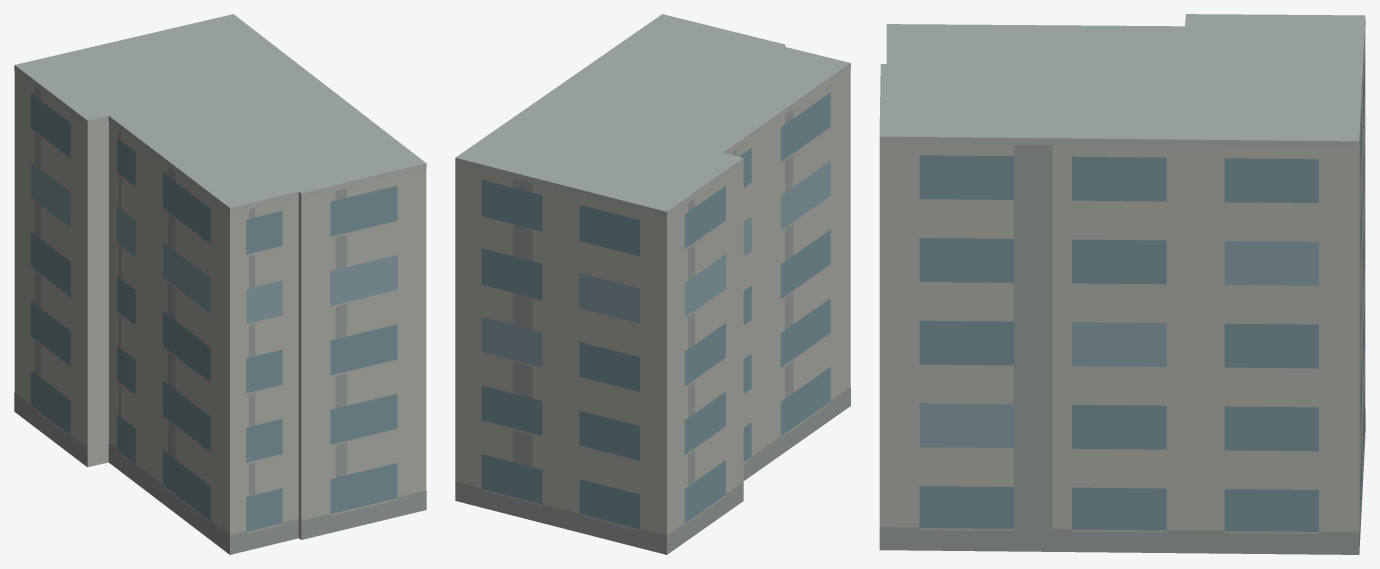
Rendered from survey-upis-32565858.glb.
3 renders of one model, left to right at view 1: azimuth 30°, elevation 25°; view 2: azimuth 150°, elevation 25°; view 3: azimuth 270°, elevation 25°, orthographic. The views are drawn at different scales.
Parts seen in each view (by area): view 1: survey-upis-32565858.tmp; view 2: survey-upis-32565858.tmp; view 3: survey-upis-32565858.tmp.
Part boxes in pixels (<box>): survey-upis-32565858.tmp: <box>14,14,426,554</box>; survey-upis-32565858.tmp: <box>455,14,850,554</box>; survey-upis-32565858.tmp: <box>879,14,1365,554</box>.
Size of the model in its own units: 9.32 by 14.1 by 15.03.
